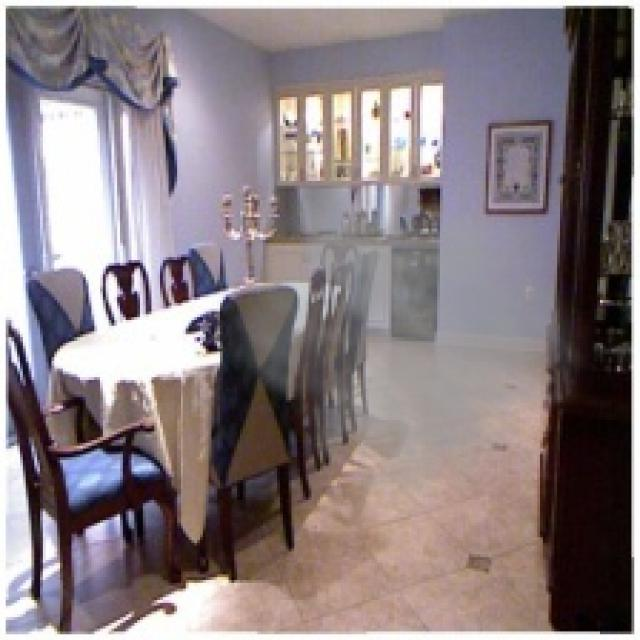smoke: (206, 186, 603, 534)
